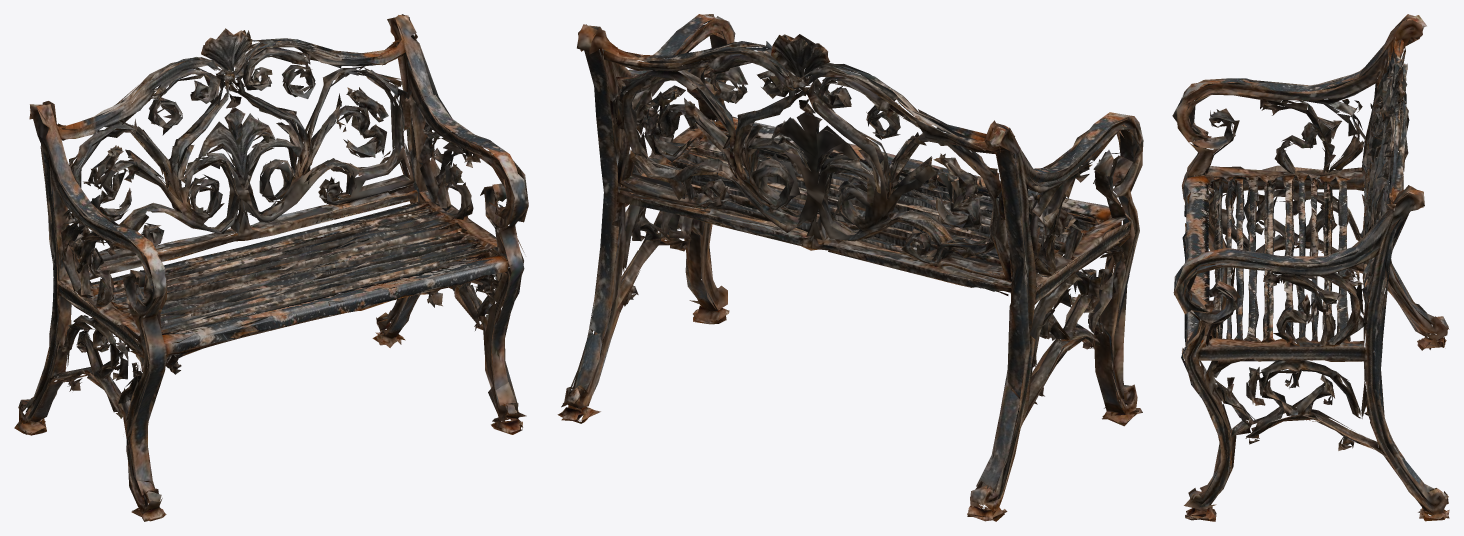
Rendered from IronBench.fbx.
The picture shows the model from 3 angles, left to right: view 1: azimuth 30°, elevation 25°; view 2: azimuth 150°, elevation 25°; view 3: azimuth 270°, elevation 25°; orthographic projection. The views are drawn at different scales.
Parts seen in each view (by area): view 1: IronBench; view 2: IronBench; view 3: IronBench.
Boxes of the visible parts, box(x1,y1,x2,y2) form: IronBench: box(14, 14, 528, 521); IronBench: box(557, 14, 1143, 521); IronBench: box(1172, 14, 1449, 521).
Size of the model in its own units: 98.67 by 91.38 by 62.62.
1 material, 1 textured.
